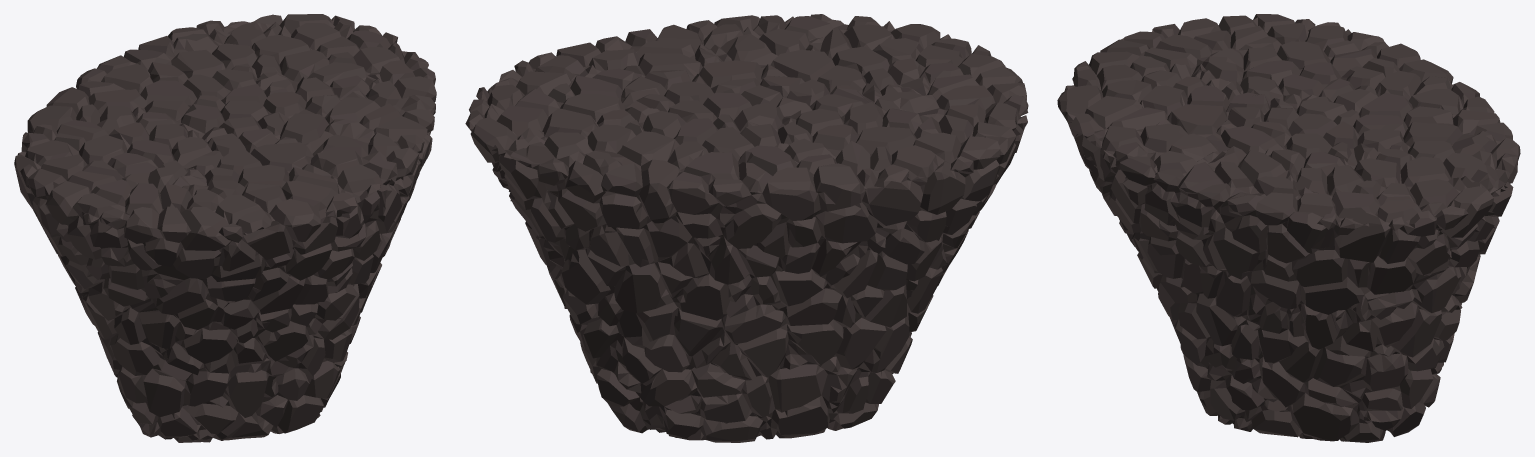
The model's file is StoneBig05.fbx.
3 renders of one model, left to right at view 1: azimuth 30°, elevation 25°; view 2: azimuth 150°, elevation 25°; view 3: azimuth 270°, elevation 25°, orthographic. The views are drawn at different scales.
Parts seen in each view (by area): view 1: Cylinder.008; view 2: Cylinder.008; view 3: Cylinder.008.
Boxes of the visible parts, bbox=[...] form: Cylinder.008: bbox=[14, 14, 436, 442]; Cylinder.008: bbox=[465, 14, 1028, 442]; Cylinder.008: bbox=[1057, 14, 1520, 442].
Bounding box in the file's own units: 341 × 230 × 318.
